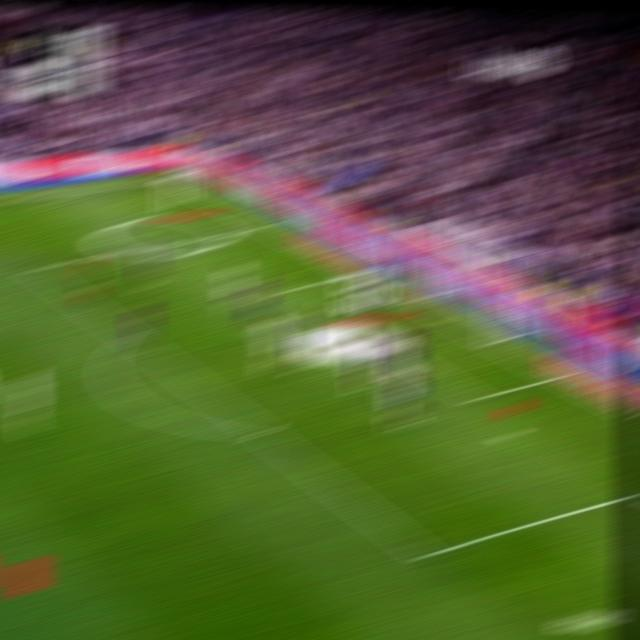bigarea_bottom_inner: (412, 538, 440, 570)
bigarea_top_inner: (24, 262, 44, 274)
bigarea_top_outter: (256, 219, 277, 231)
bottom_arc_area_intersection: (249, 420, 274, 443)
smallarea_top_inner: (275, 280, 298, 298)
top_arc_area_intersection: (116, 324, 137, 342)
